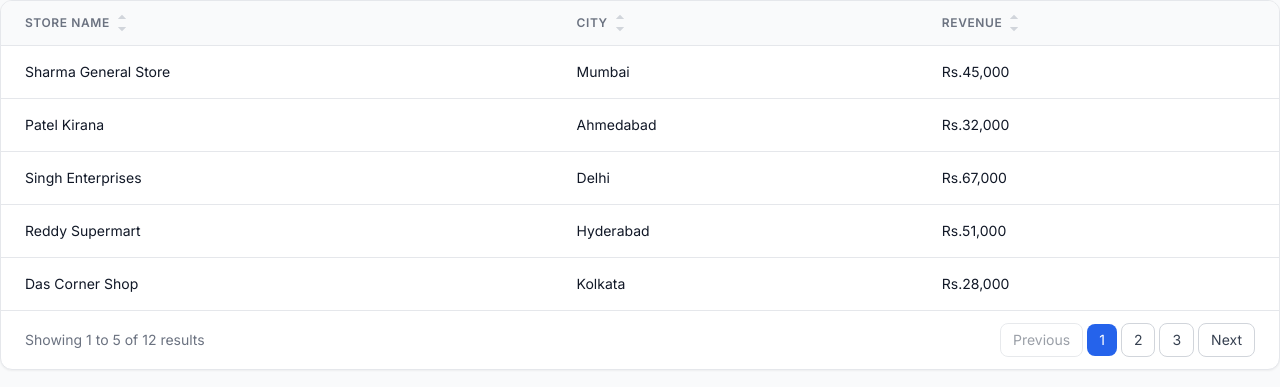
Test: DataTable › Pagination › should navigate back to previous page
# Go to page 2
Click the button "Next": (1227, 340) top-left (1198, 323), bottom-right (1255, 357)
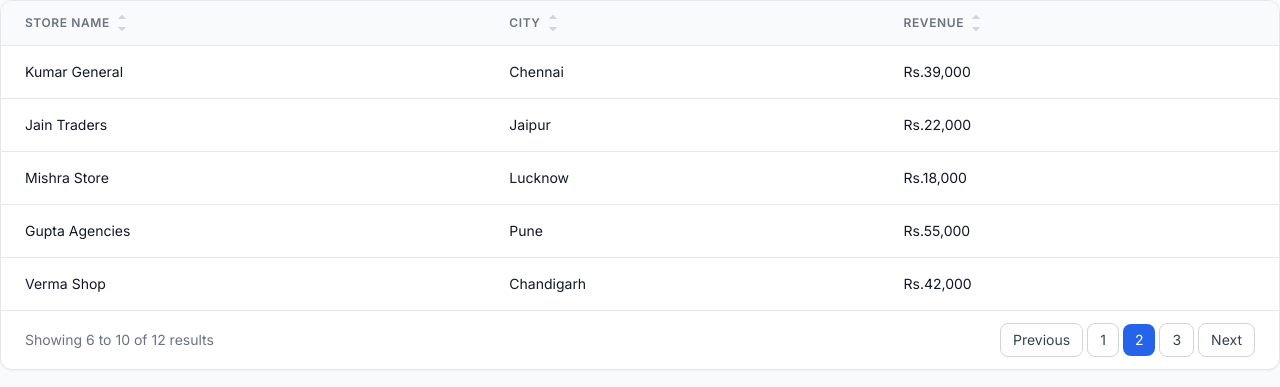
# Go back to page 1
Click the button "Previous": (1042, 340) top-left (1000, 323), bottom-right (1083, 357)
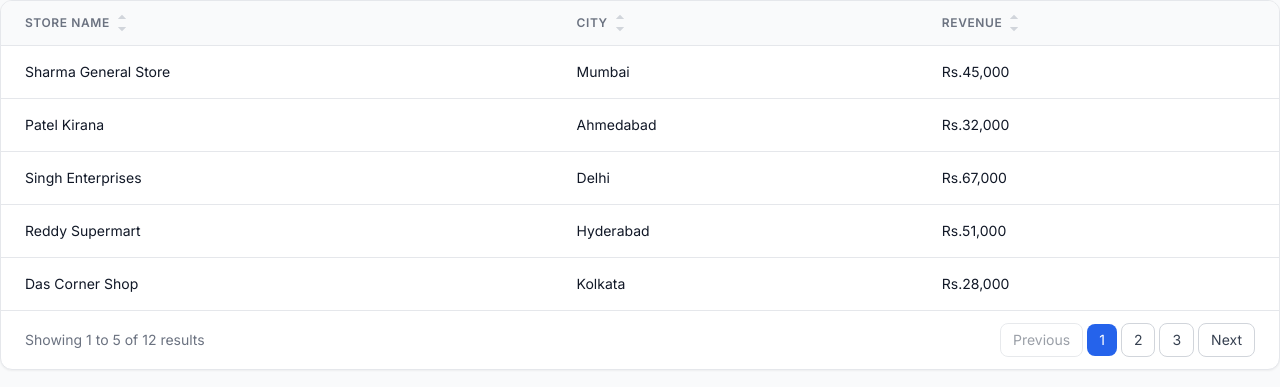
Expected: the text "Sharma General Store" is shown, top-left (1, 46), bottom-right (553, 98)
